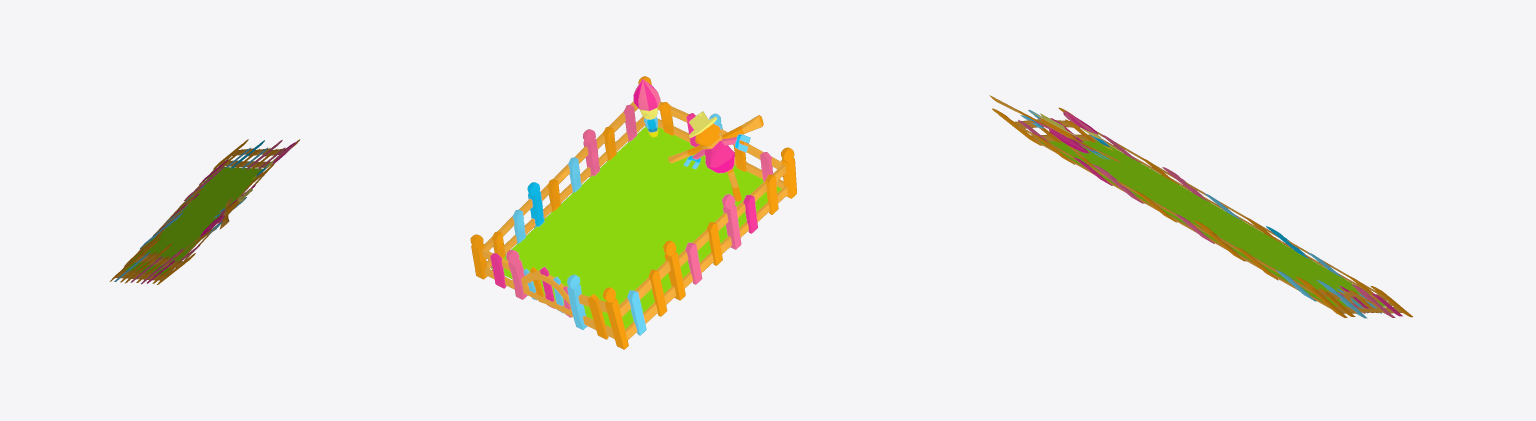
File: kjokkenhage_spirteplane_TEST.FBX
The picture shows the model from 3 angles, left to right: view 1: azimuth 30°, elevation 25°; view 2: azimuth 150°, elevation 25°; view 3: azimuth 270°, elevation 25°; orthographic projection. The views are drawn at different scales.
Parts seen in each view (by area): view 1: kjokkehnage_mesh; view 2: kjokkehnage_mesh; view 3: kjokkehnage_mesh.
Boxes of the visible parts, box(x1,y1,x2,y2) form: kjokkehnage_mesh: box(110, 139, 300, 284); kjokkehnage_mesh: box(470, 76, 796, 349); kjokkehnage_mesh: box(989, 95, 1412, 318).
Size of the model in its own units: 280 by 168 by 280.
Materials: 1 (1 with a texture image).
